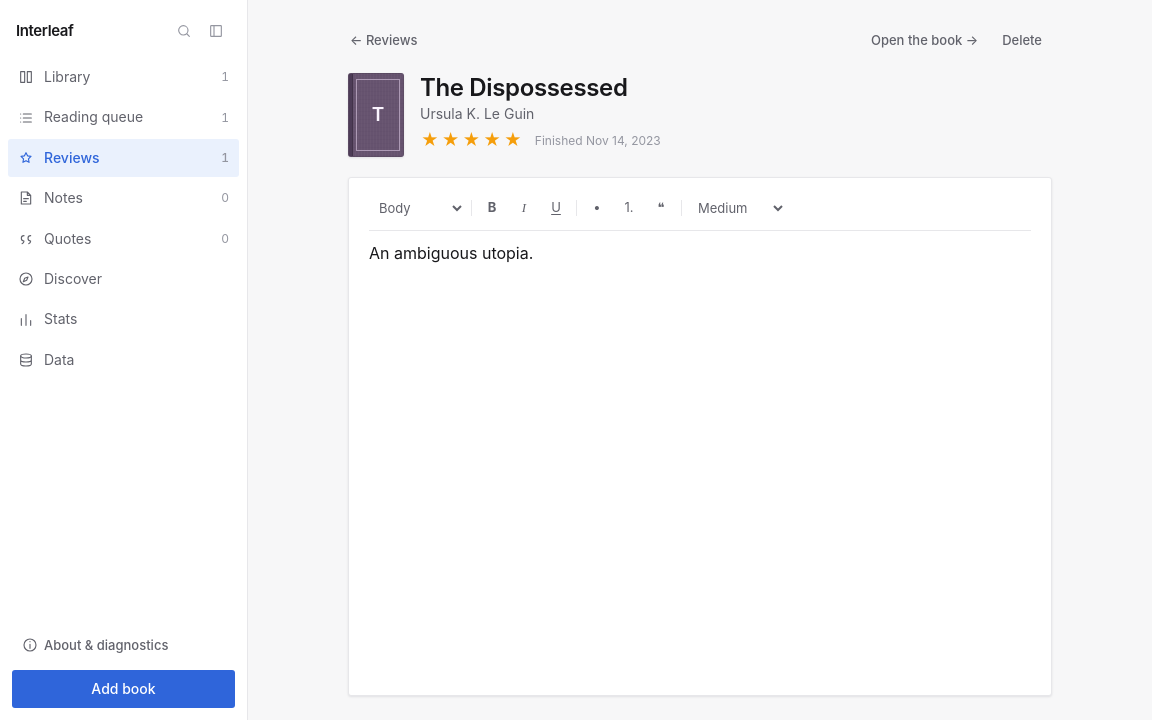
the review screen › deletes the review and keeps the book
Click the button "Delete".
click(1022, 40)  # box [992,24,1052,57]
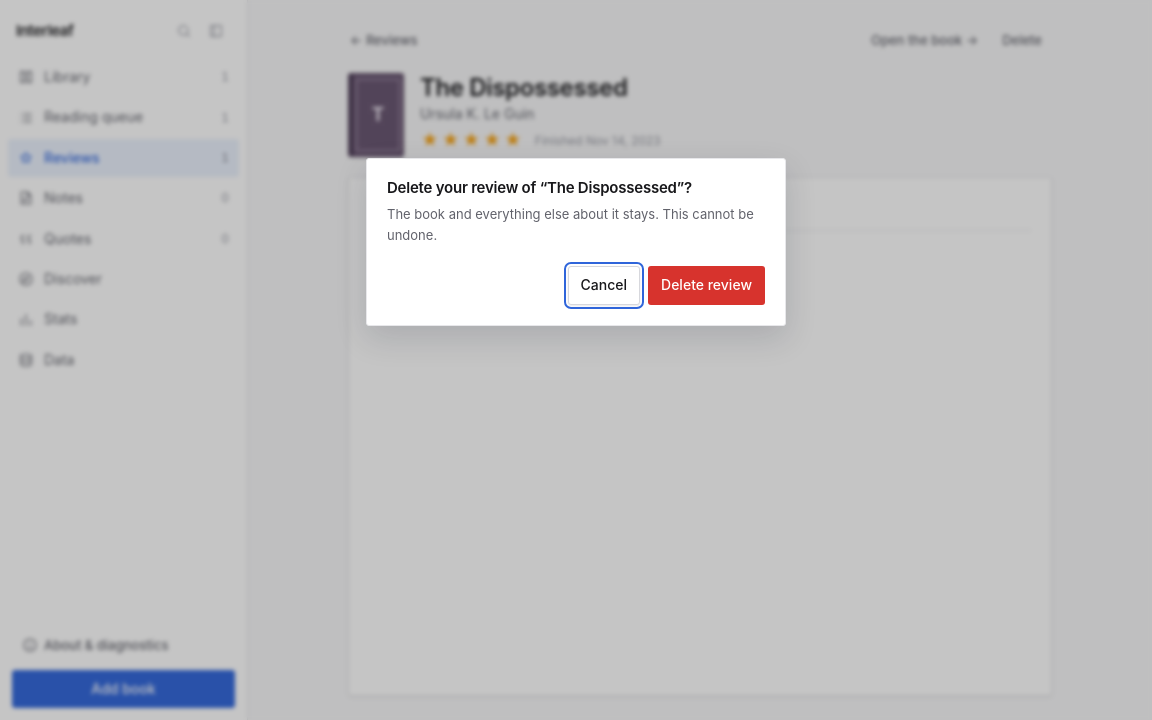
Click the button "Delete review".
click(706, 286)  # box [648,266,765,305]
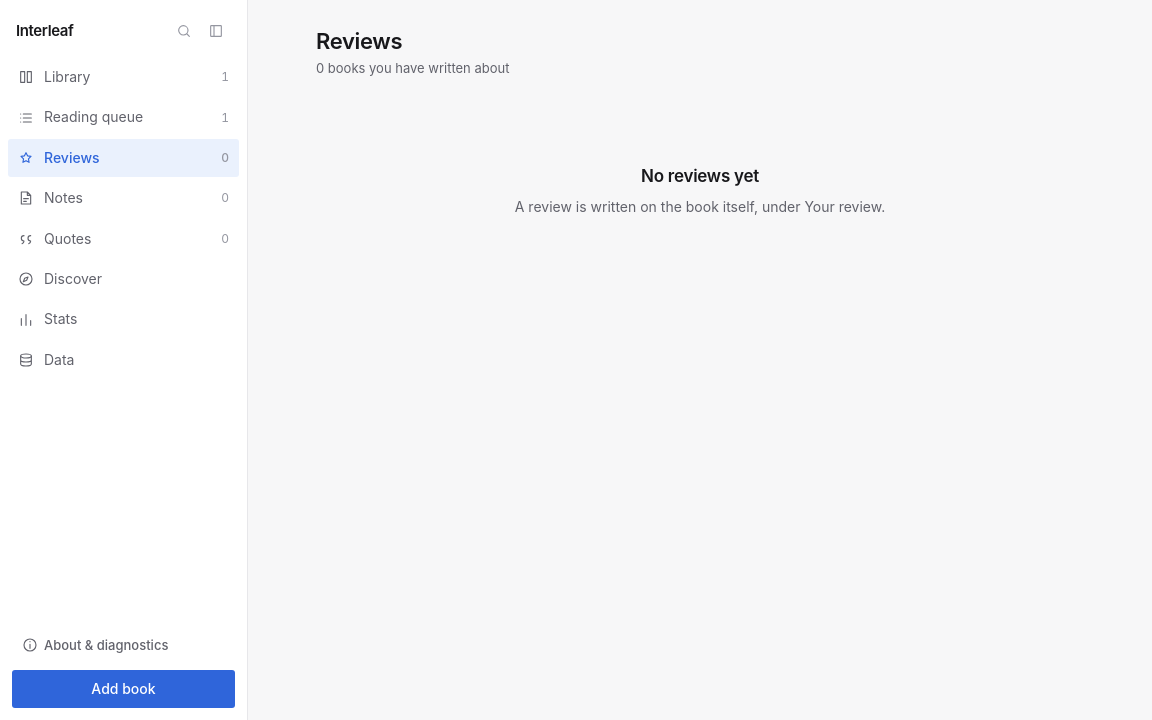
Check: the heading "Reviews" is shown, box [316,28,402,54]
